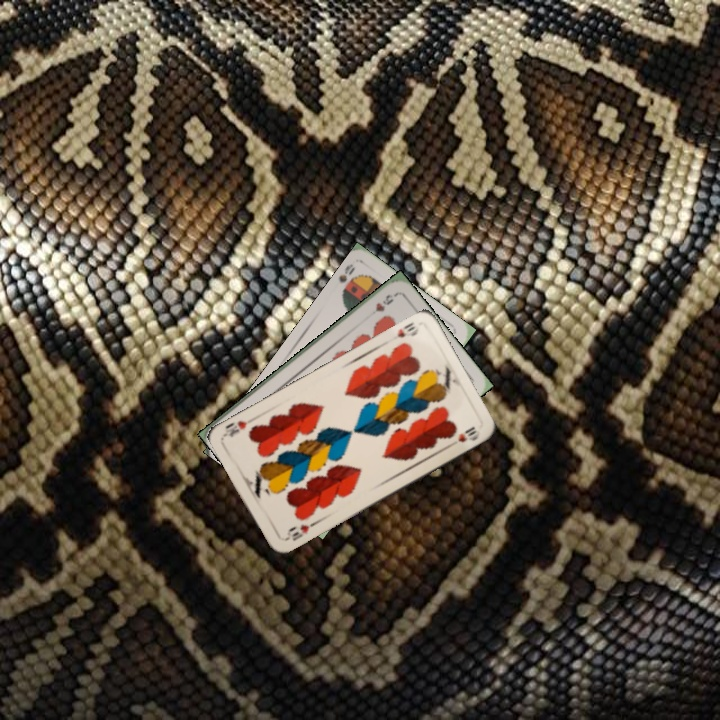H10: (280, 518, 318, 544), (393, 318, 421, 340)
H9: (371, 290, 399, 315)
SO: (335, 260, 359, 299)
